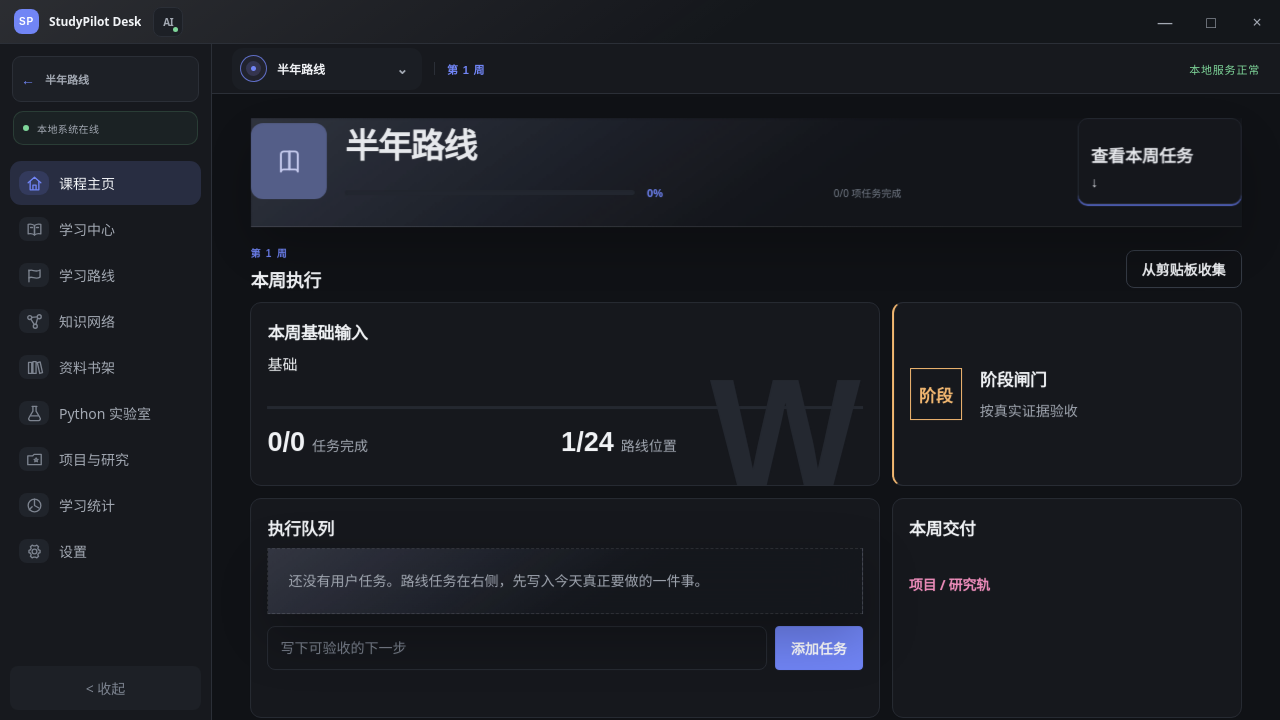
Scenario: commits the active course even when non-critical workspace refreshes fail
Expected: the heading "本周执行" is shown, x1=250 y1=266 x2=321 y2=292
Click the button with aria-label "当前课程" at x=327, y=68, box x1=232 y1=48 x2=422 y2=90
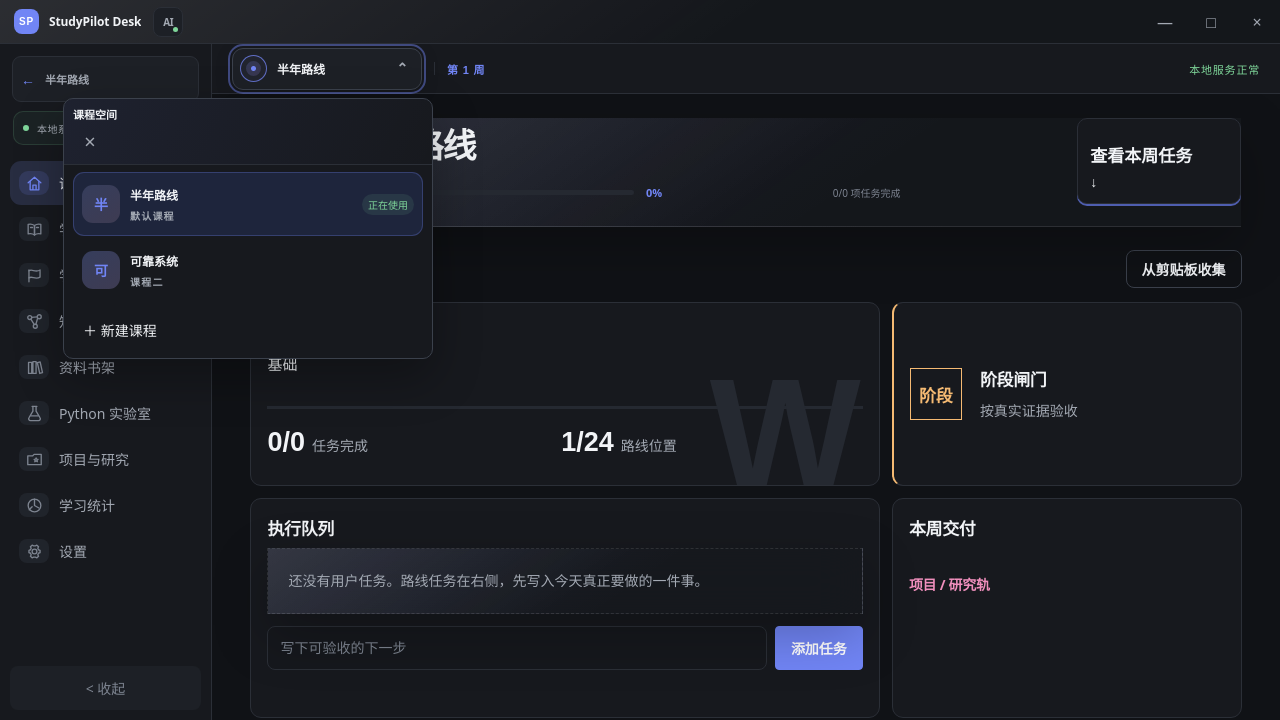
Click the button with aria-label "切换到 可靠系统" at x=101, y=270, box x1=73 y1=238 x2=423 y2=302
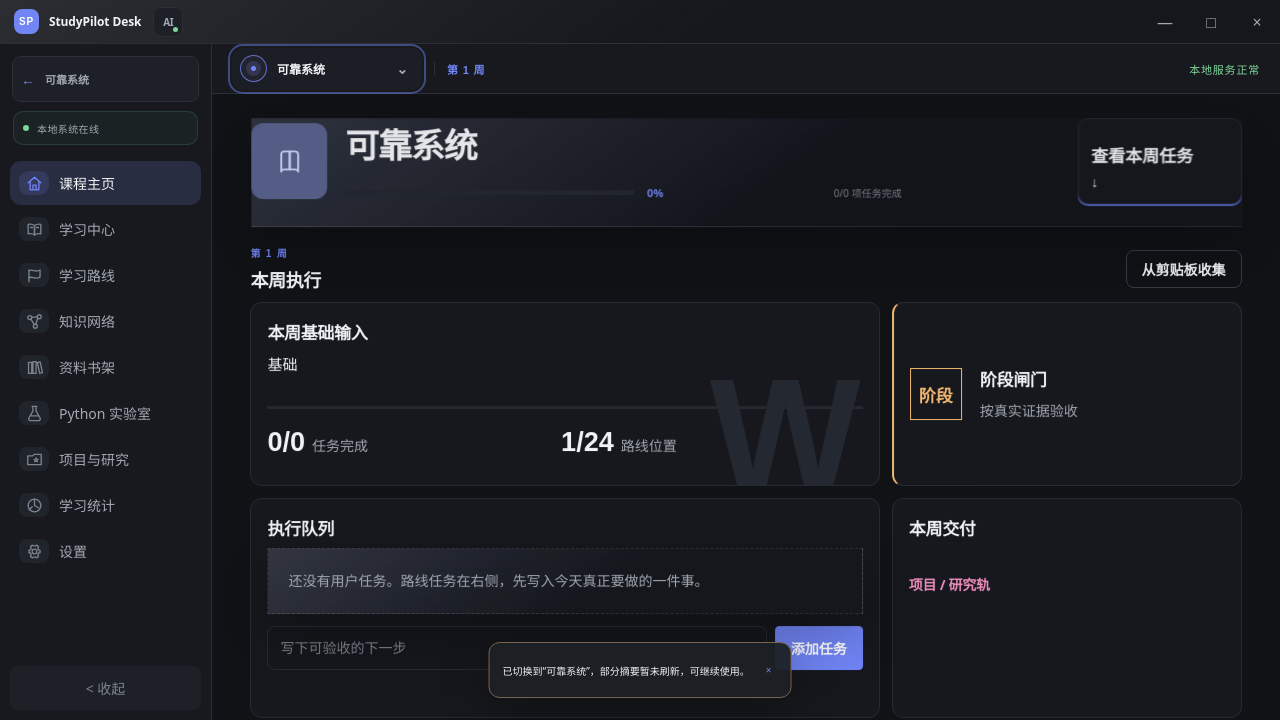
Expected: the button with aria-label "当前课程：可靠系统" is shown, x1=232 y1=48 x2=422 y2=90
Expected: the message shows "已切换到“可靠系统”", x1=502 y1=664 x2=750 y2=678
